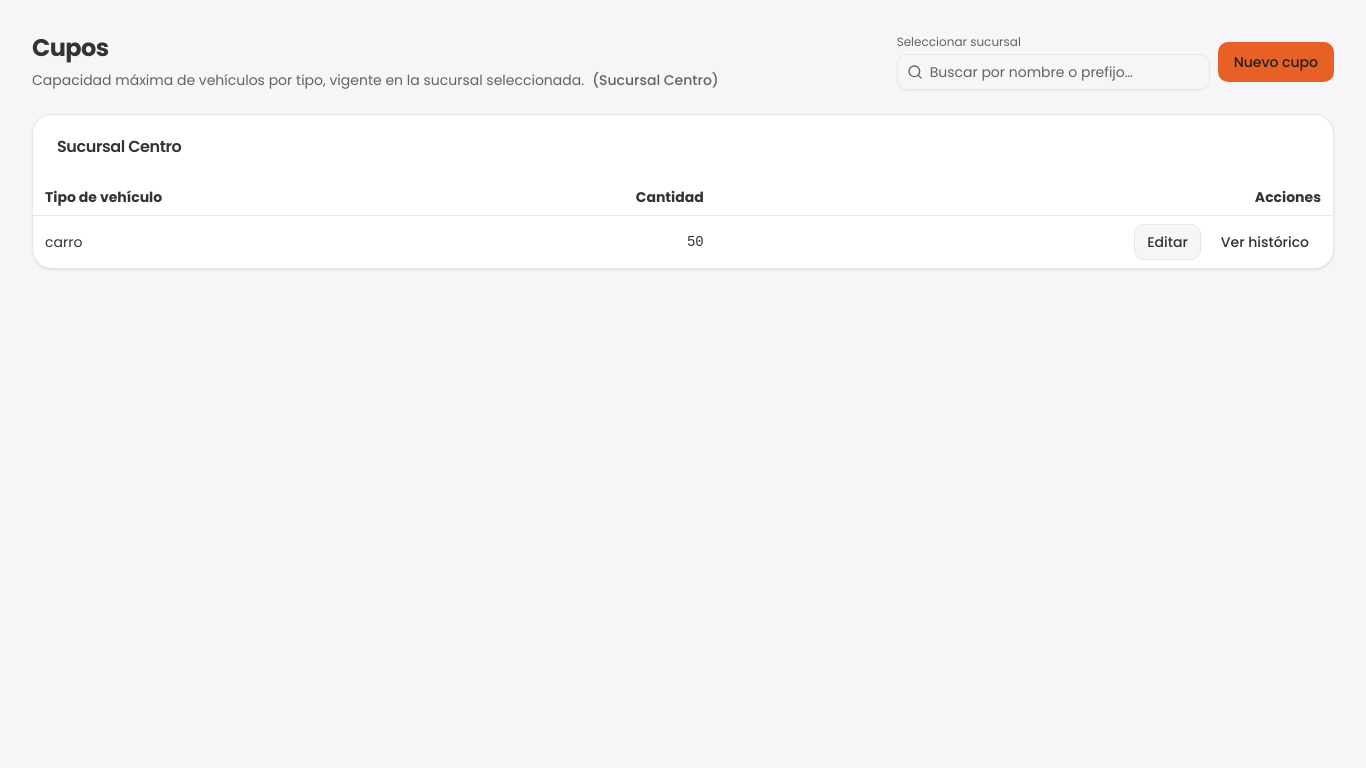
Test: Cupos page › CP11: EDIT modal locks the tipo field (cannot change it after creation)
Expected: the row with test id "cupo-row-aaaaaaaa-1111-1111-1111-111111111111" is shown, x1=33 y1=216 x2=1333 y2=268
Click the button with test id "cupo-edit-aaaaaaaa-1111-1111-1111-111111111111". click: (1168, 242)
box: x1=1134 y1=224 x2=1201 y2=260
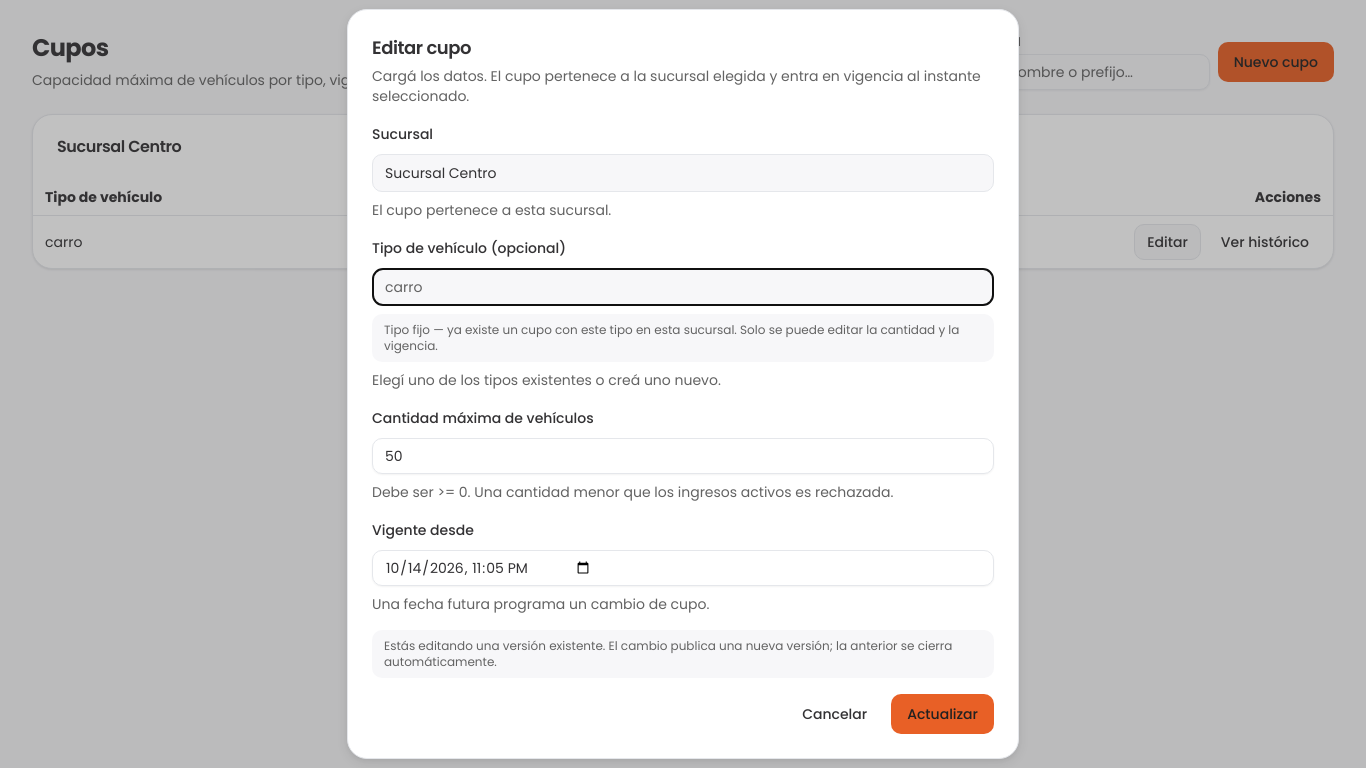
Result: the field with test id "cupo-field-tipo-vehiculo" holds "carro" at x1=372 y1=268 x2=994 y2=306
Result: the text with test id "cupo-field-tipo-vehiculo-locked" is shown at x1=372 y1=314 x2=994 y2=362
